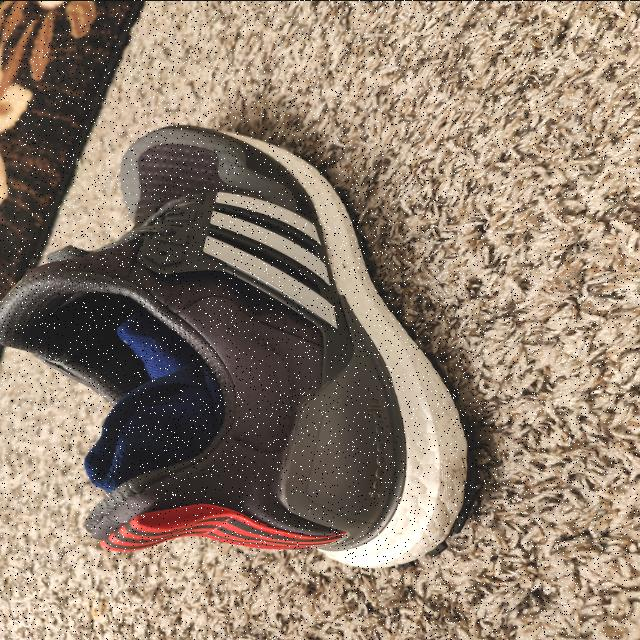black shoes: (0, 125, 477, 566)
